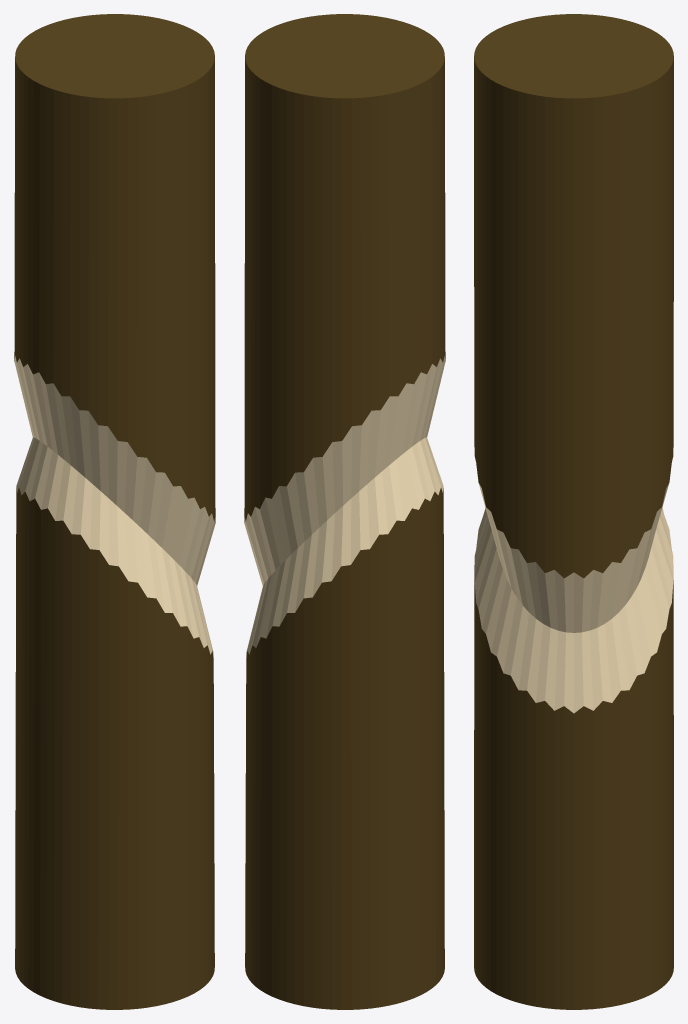
The model's file is Target_3.fbx.
3 views of the same model, side by side, from view 1: azimuth 30°, elevation 25°; view 2: azimuth 150°, elevation 25°; view 3: azimuth 270°, elevation 25° (orthographic).
Parts seen in each view (by area): view 1: Target_3; view 2: Target_3; view 3: Target_3.
Part boxes in pixels (x1,y1,x2,y2): Target_3: [14, 14, 215, 1009]; Target_3: [244, 14, 445, 1009]; Target_3: [474, 14, 673, 1009].
Bounding box in the file's own units: 40.1 × 200 × 39.75.
1 material, 1 textured.
